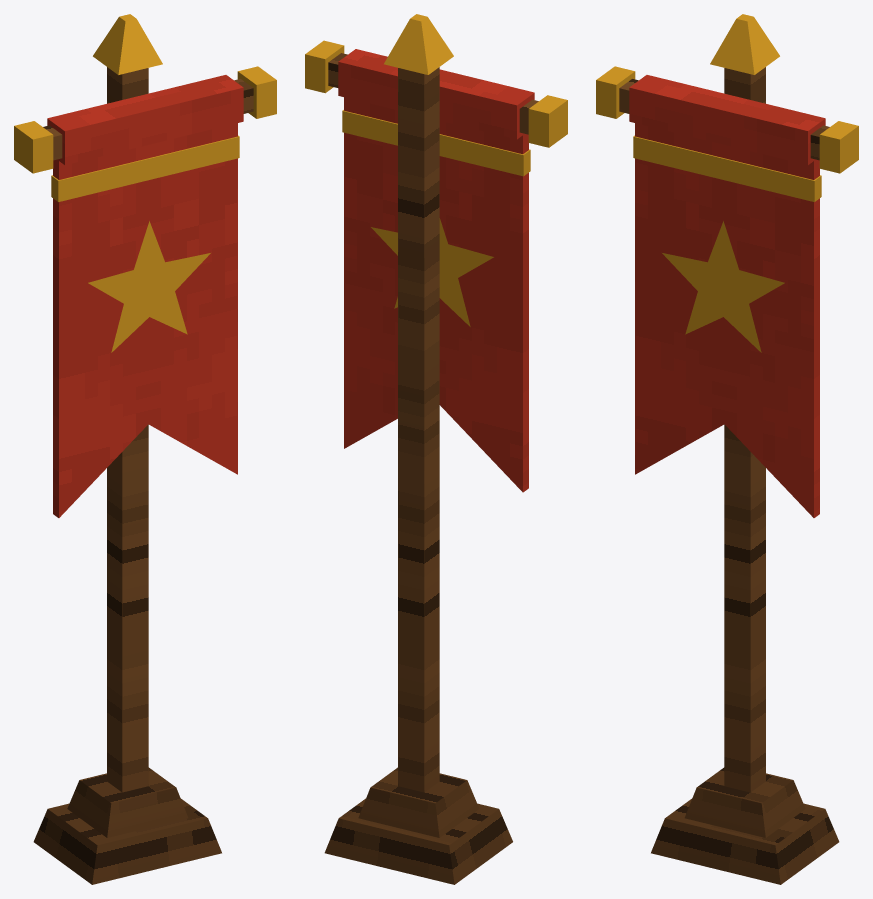
Rendered from int_banner.glb.
3 renders of one model, left to right at view 1: azimuth 30°, elevation 25°; view 2: azimuth 150°, elevation 25°; view 3: azimuth 330°, elevation 25°, orthographic.
Parts seen in each view (by area): view 1: sway_cloth, int_banner; view 2: sway_cloth, int_banner; view 3: sway_cloth, int_banner.
Boxes of the visible parts, x1,y1,x2,y2 form: sway_cloth: (47,75,243,517); int_banner: (14,14,276,884); sway_cloth: (338,49,534,492); int_banner: (305,14,567,884); sway_cloth: (629,75,825,517); int_banner: (596,14,858,884).
Size of the model in its own units: 0.6 by 1.95 by 0.25.
Materials: 3 (2 with a texture image).
